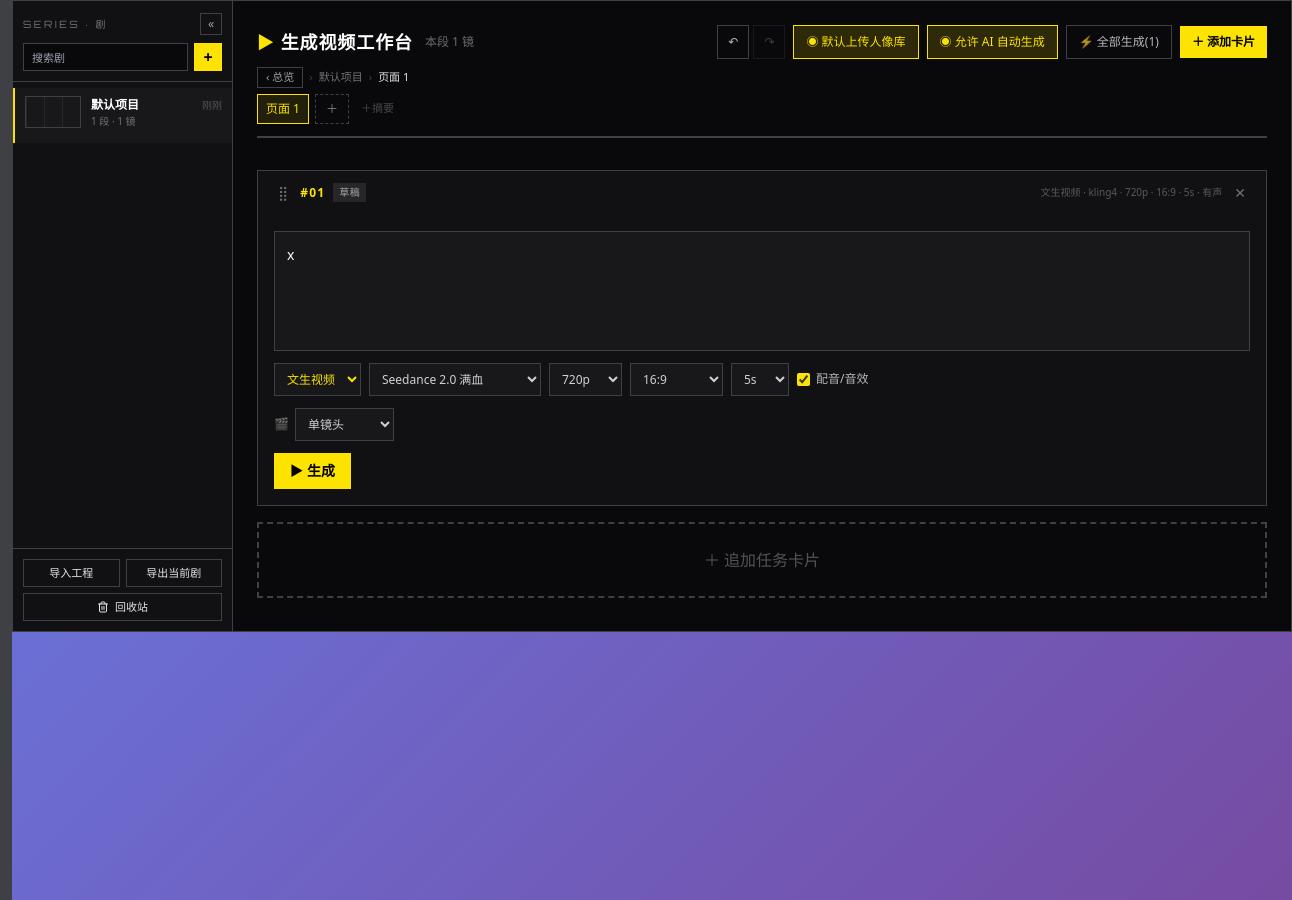
it: 卡片上的分镜入口(接进 WorkbenchCard) › 可灵卡有分镜下拉;选自定义分镜后卡片上长出镜头,且总提示词留空也能点「生成」
Select "自定义分镜" in the dropdown named "分镜": (344, 424) x1=295 y1=408 x2=394 y2=440
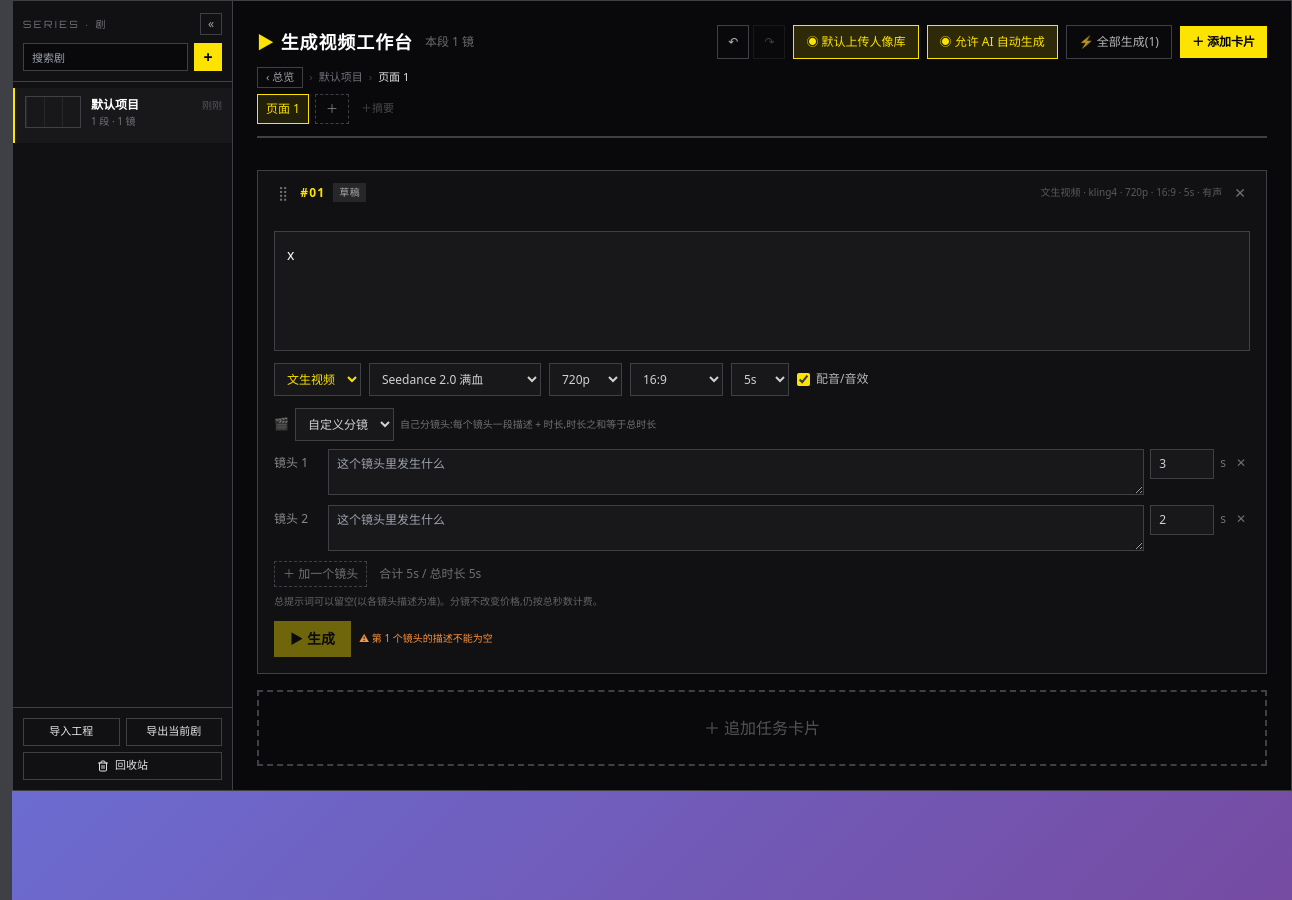
Expected: the text box named "镜头 1 描述" is shown, x1=328 y1=448 x2=1144 y2=494
